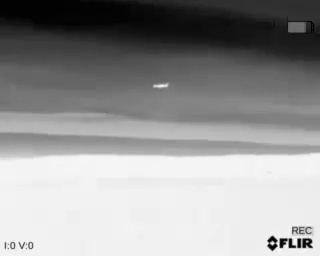AIRPLANE: (151, 79, 171, 91)
